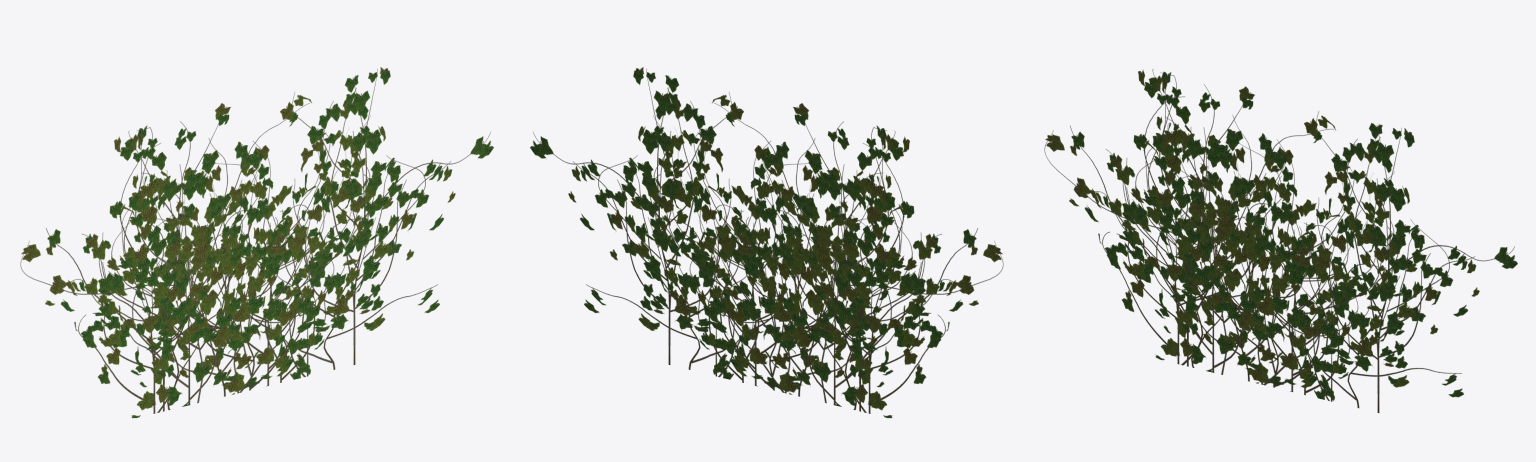
3 views of the same model, side by side, from view 1: azimuth 30°, elevation 25°; view 2: azimuth 150°, elevation 25°; view 3: azimuth 330°, elevation 25° (orthographic).
Parts seen in each view (by area): view 1: Ivy_Plane_0; view 2: Ivy_Plane_0; view 3: Ivy_Plane_0.
Part boxes in pixels (<box>): Ivy_Plane_0: <box>20,67,493,418</box>; Ivy_Plane_0: <box>530,67,1003,418</box>; Ivy_Plane_0: <box>1044,69,1517,412</box>.
Bounding box in the file's own units: 2 × 1.25 × 0.
Materials: 1 (1 with a texture image).
